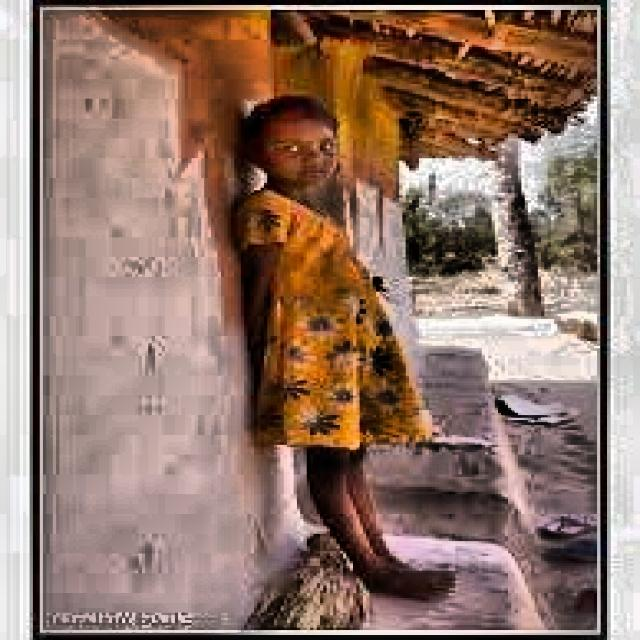Human: (212, 88, 504, 612)
